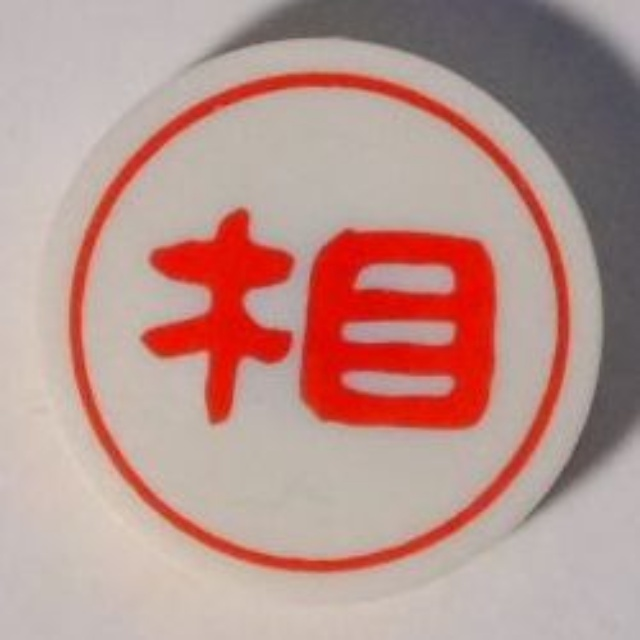red_bo: (28, 35, 613, 592)
